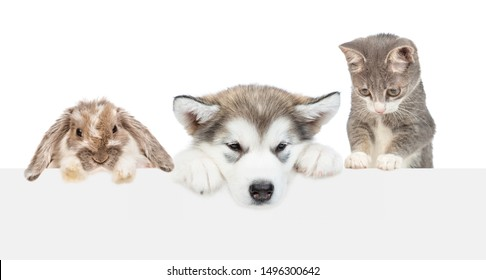cat: (337, 21, 442, 174)
dog: (162, 78, 342, 206)
rabbit: (29, 85, 173, 187)
